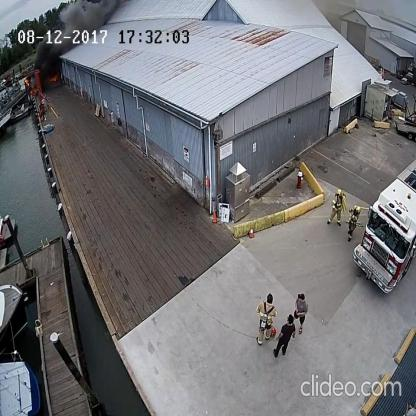fire: (46, 72, 63, 85), (22, 75, 33, 91)
